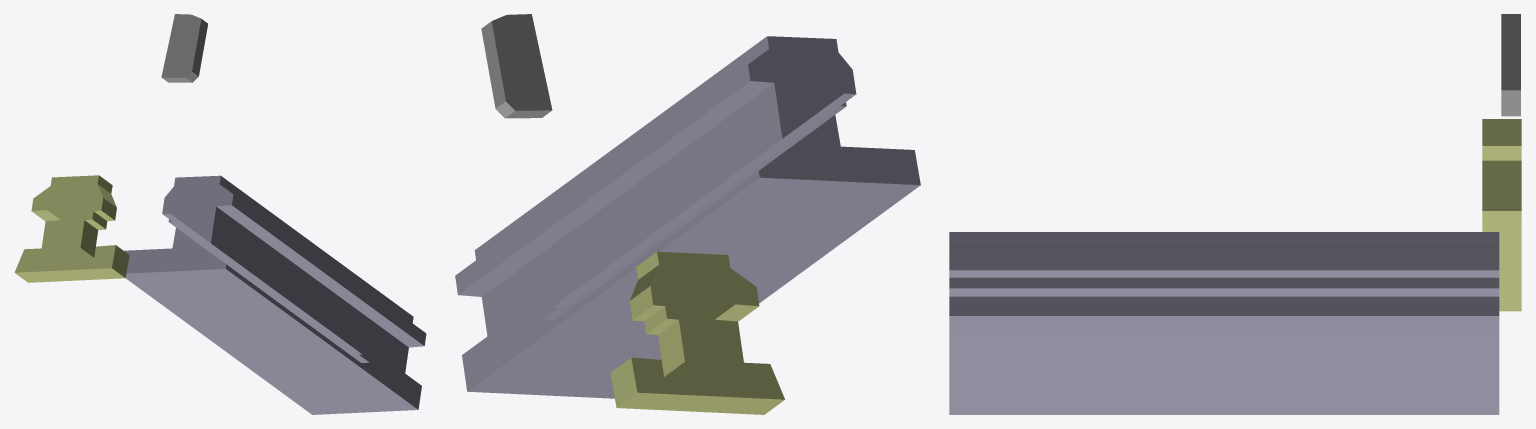
The picture shows the model from 3 angles, left to right: view 1: azimuth 30°, elevation 25°; view 2: azimuth 150°, elevation 25°; view 3: azimuth 270°, elevation 25°; orthographic projection. The views are drawn at different scales.
Visible parts, largest first — view 1: 0_3_1_3_3_2_3_1; view 2: 0_3_1_3_3_2_3_1; view 3: 0_3_1_3_3_2_3_1.
Boxes of the visible parts, <box> form: 0_3_1_3_3_2_3_1: <box>14,14,426,414</box>; 0_3_1_3_3_2_3_1: <box>455,14,920,414</box>; 0_3_1_3_3_2_3_1: <box>949,14,1521,414</box>.
Bounding box in the file's own units: 53.23 × 62.5 × 87.4.
